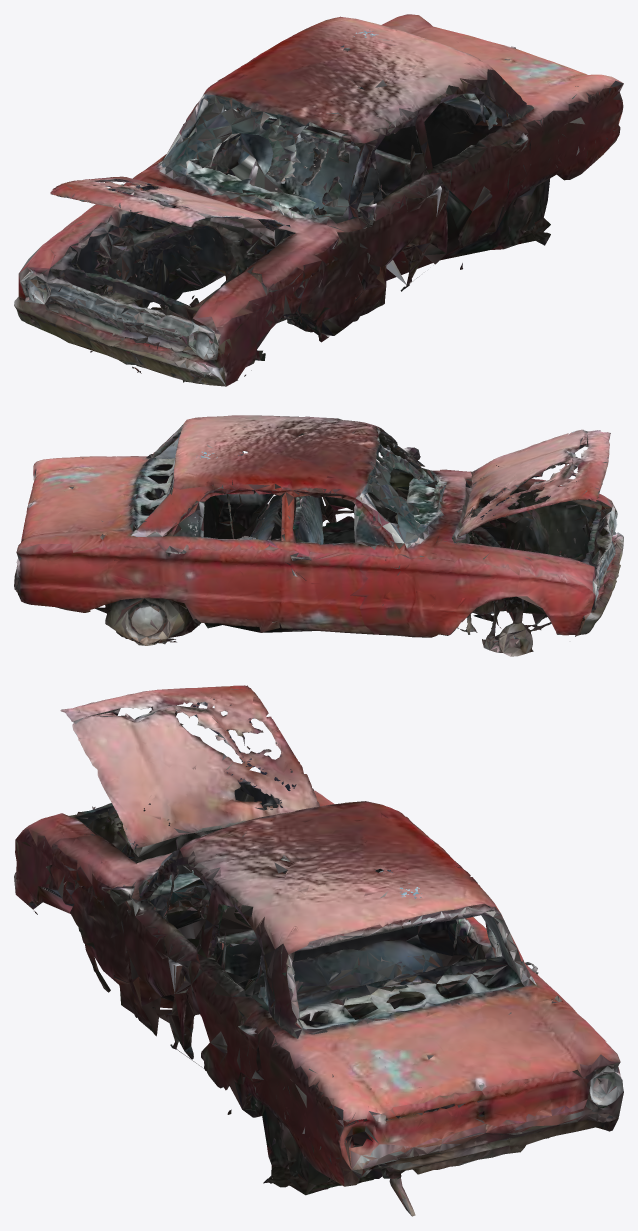
Rendered from car_scan_red.glb.
The picture shows the model from 3 angles, top to bottom: view 1: azimuth 30°, elevation 25°; view 2: azimuth 150°, elevation 25°; view 3: azimuth 270°, elevation 25°; orthographic projection. The views are drawn at different scales.
Visible parts, largest first — view 1: Object_2; view 2: Object_2; view 3: Object_2.
Part boxes in pixels (box(x1,y1,x2,y2)): Object_2: box(14, 14, 623, 386); Object_2: box(14, 415, 623, 656); Object_2: box(14, 685, 623, 1216).
Size of the model in its own units: 4.2 by 1.28 by 2.99.
Materials: 1 (1 with a texture image).
